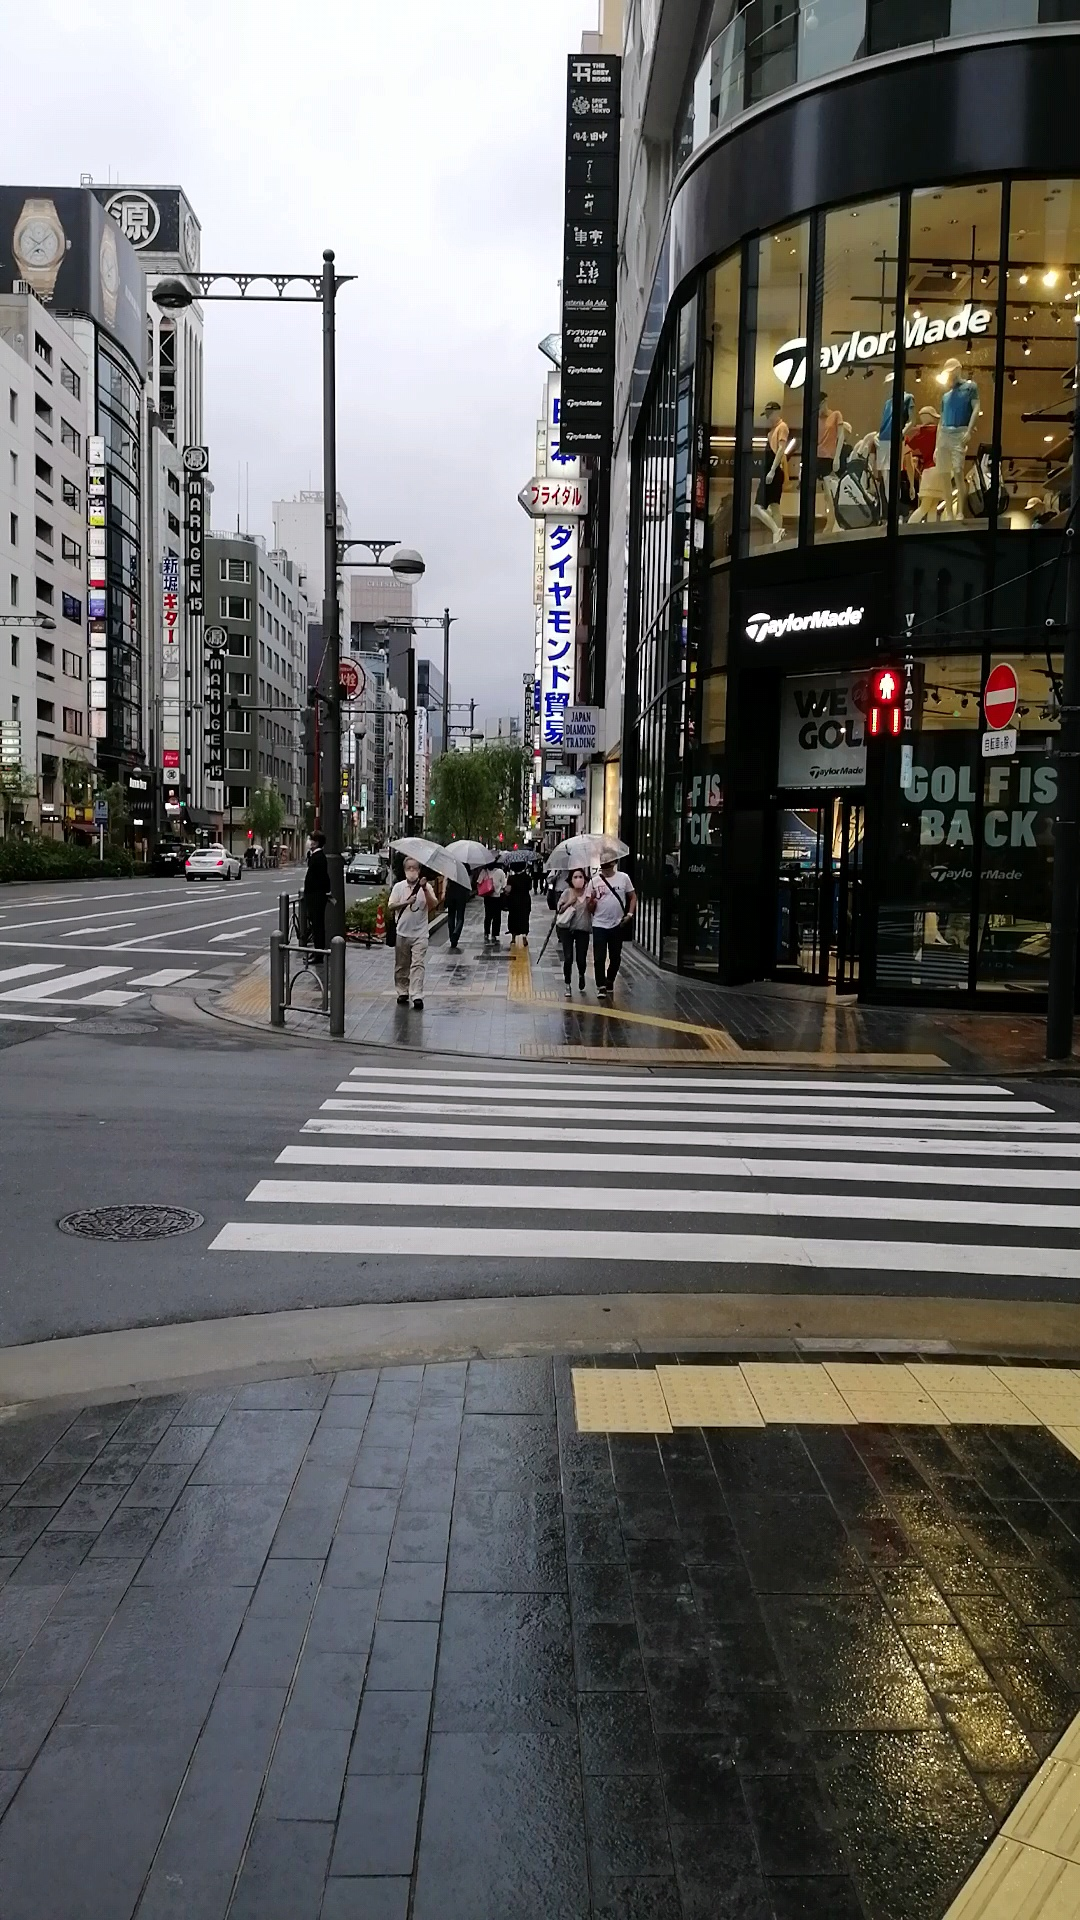red: (862, 665, 905, 738)
